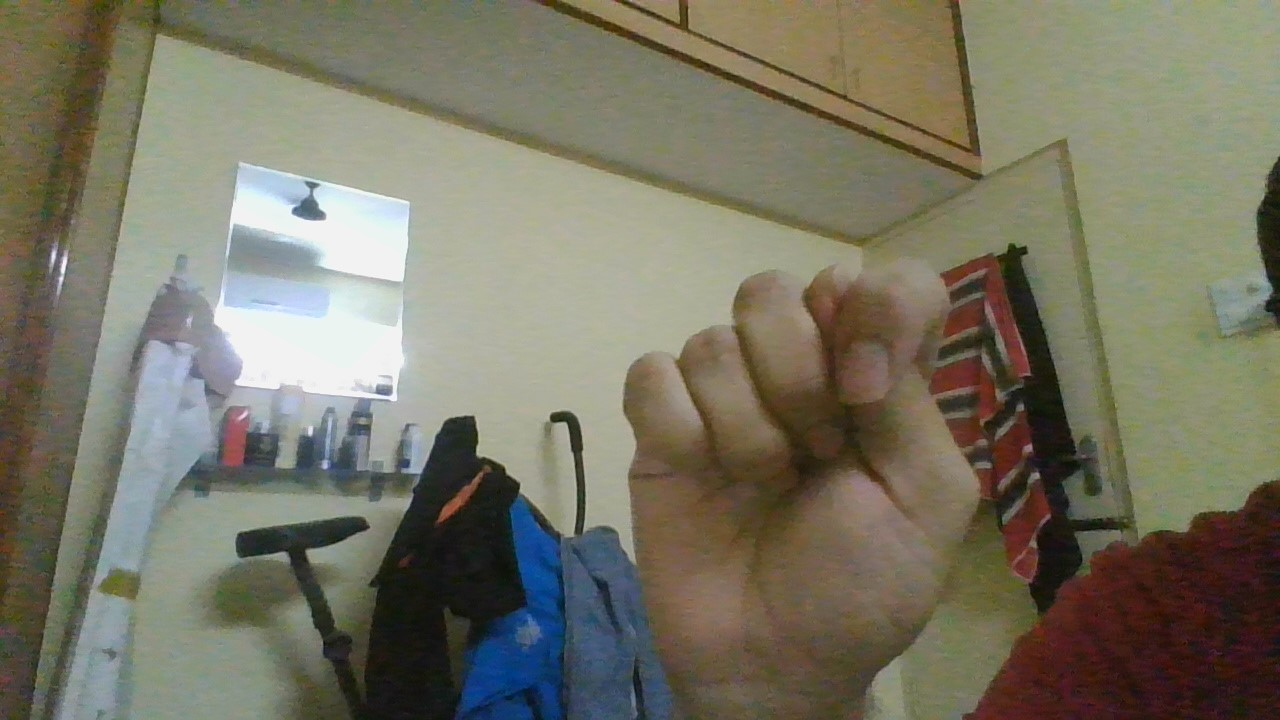t: (615, 257, 988, 698)
